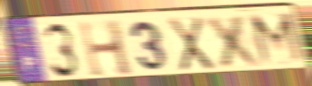3: (127, 19, 172, 73), (41, 21, 82, 80)
H: (76, 19, 136, 79)
M: (247, 11, 309, 68)
X: (203, 13, 266, 69), (166, 15, 216, 74)
